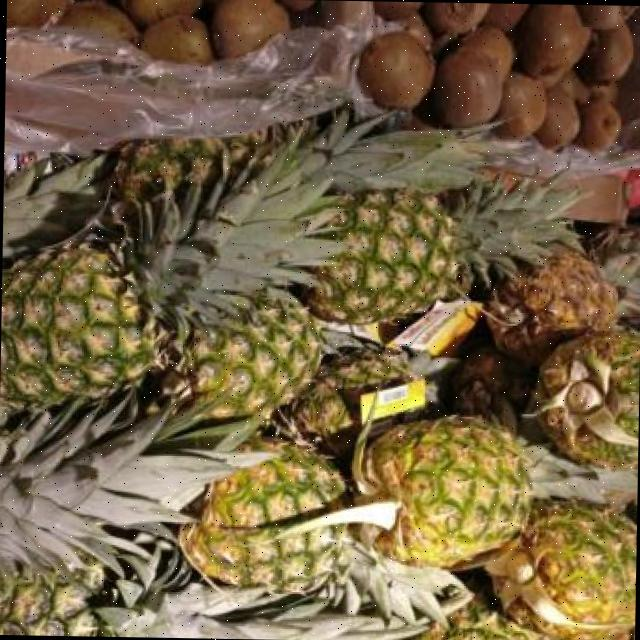pineapple: (0, 141, 335, 405), (276, 415, 637, 569), (178, 442, 469, 632), (304, 179, 576, 323), (0, 554, 427, 640), (484, 502, 636, 640), (284, 345, 458, 449), (487, 225, 640, 333), (185, 297, 319, 416), (524, 331, 640, 467)
